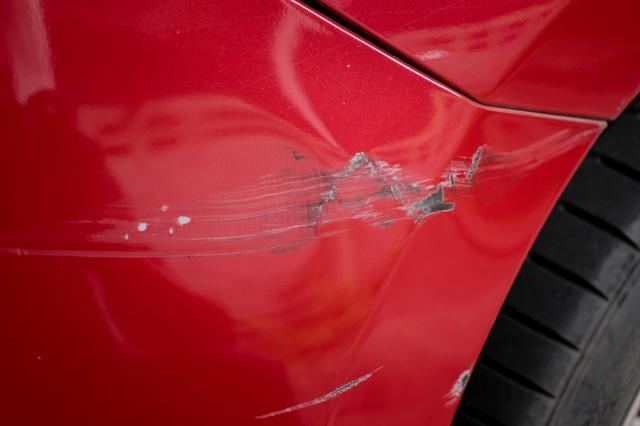scratch: (0, 126, 599, 269), (251, 366, 389, 424), (445, 363, 473, 409)
